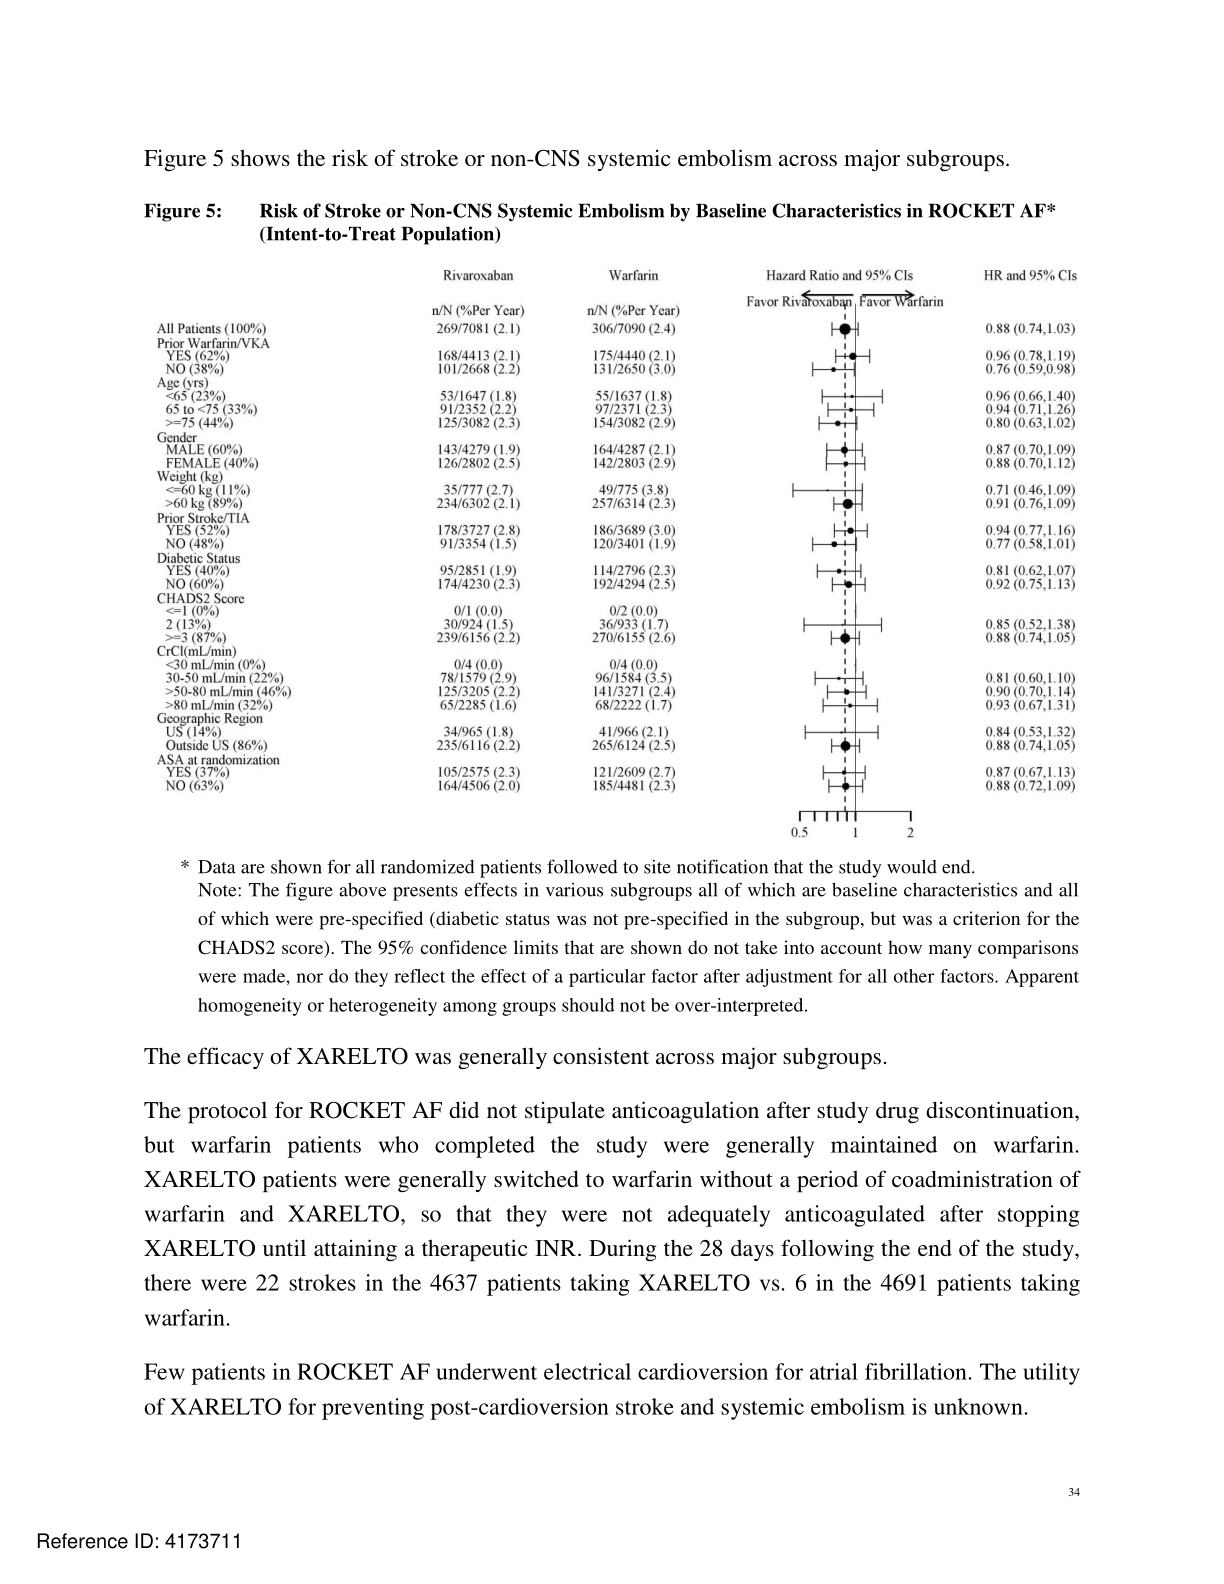nolines: (154, 264, 1081, 797)
